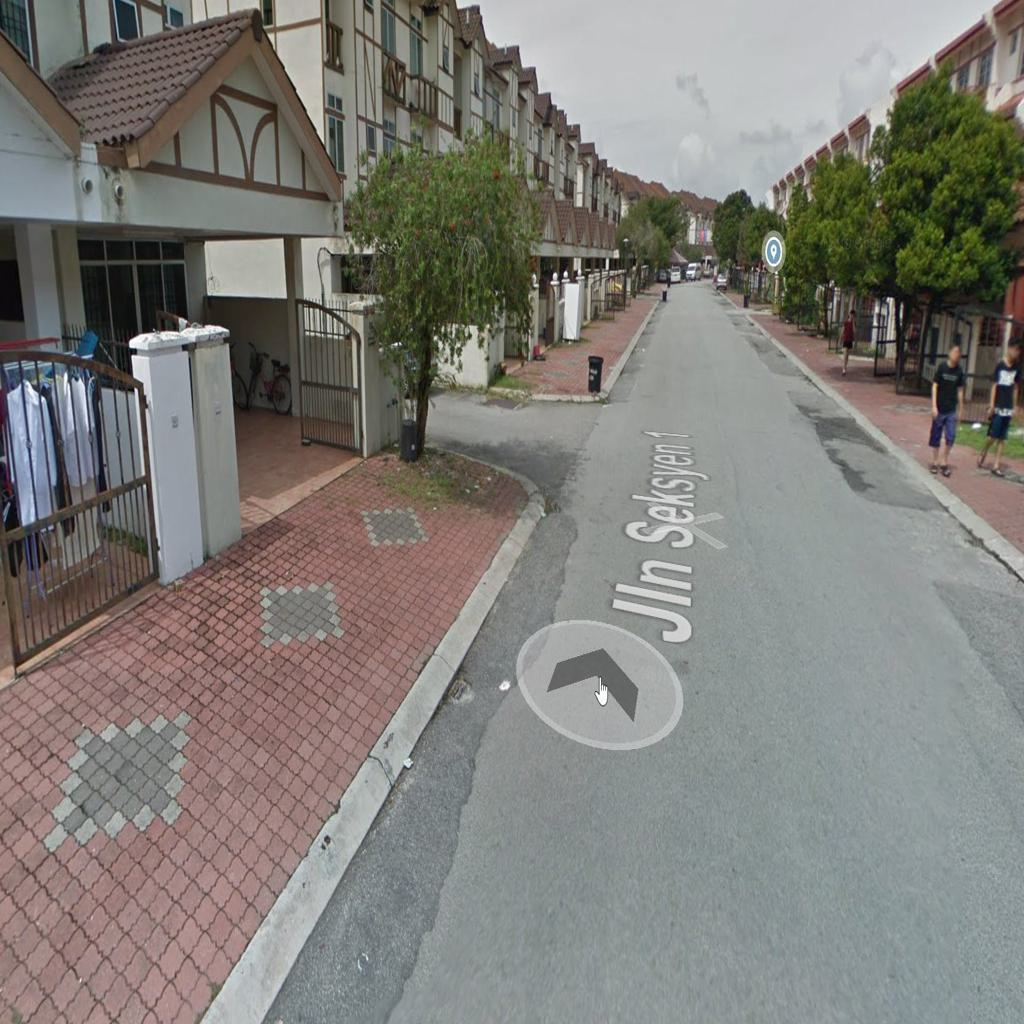Junction: (402, 364, 655, 555)
